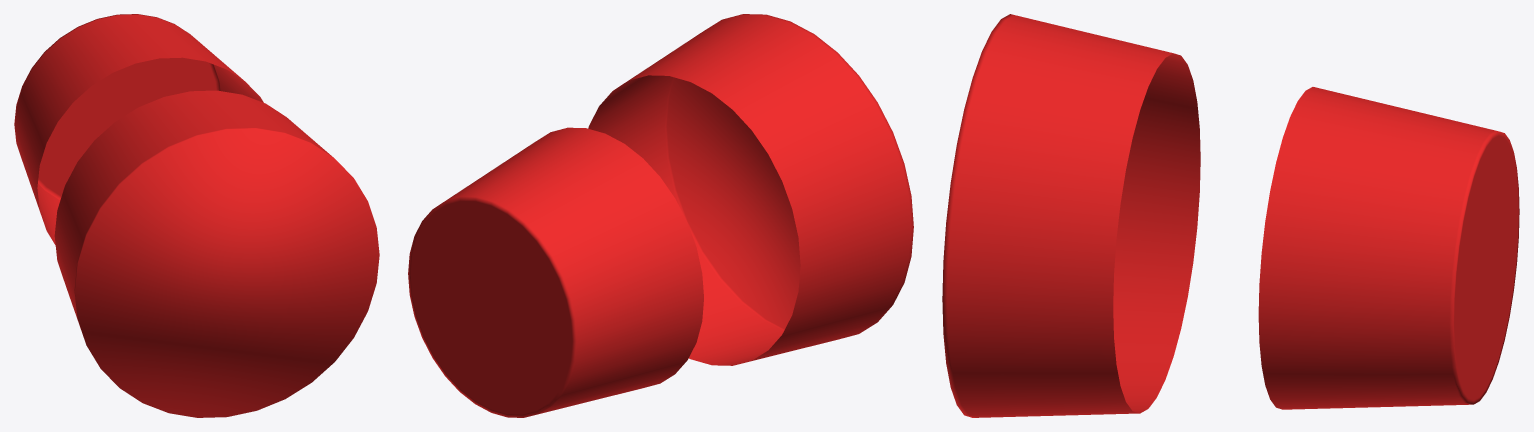
3 renders of one model, left to right at view 1: azimuth 30°, elevation 25°; view 2: azimuth 150°, elevation 25°; view 3: azimuth 270°, elevation 25°, orthographic. The views are drawn at different scales.
Size of the model in its own units: 0.783 by 0.7012 by 0.996.
